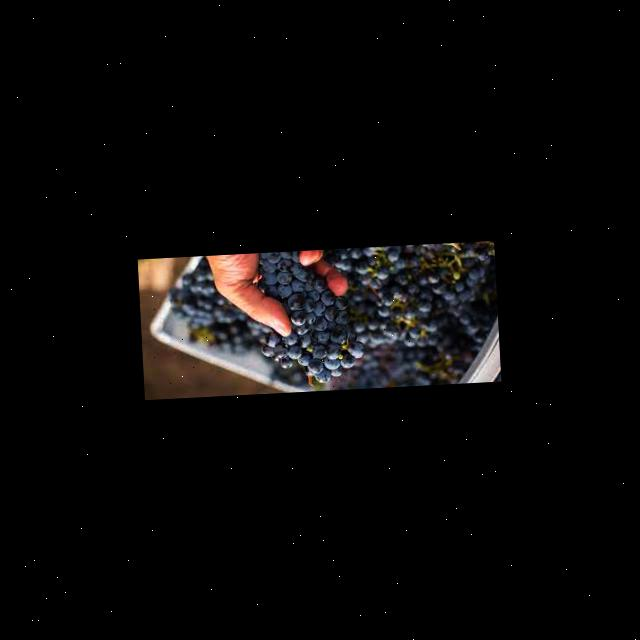grape: (255, 248, 367, 386)
